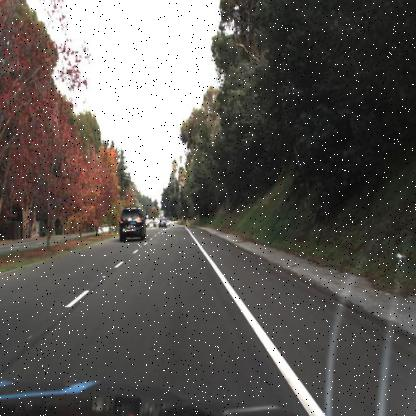car: (114, 207, 145, 248), (97, 222, 116, 238), (156, 215, 167, 232)
